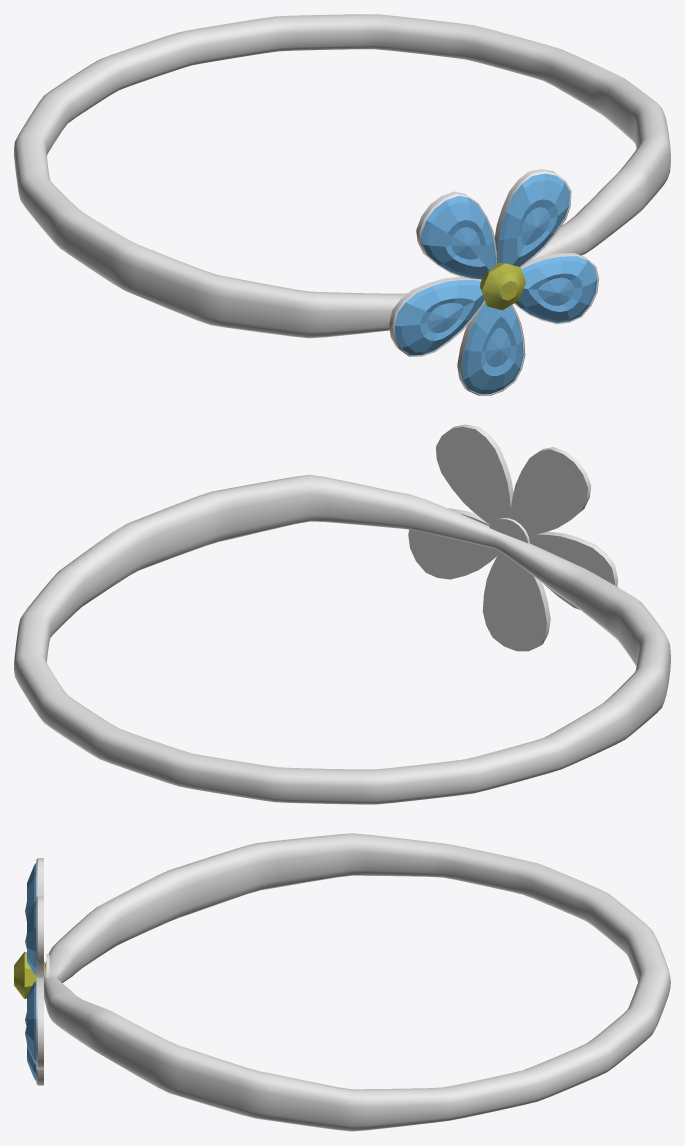
File: yubiwa_hana.fbx
The picture shows the model from 3 angles, top to bottom: view 1: azimuth 30°, elevation 25°; view 2: azimuth 150°, elevation 25°; view 3: azimuth 270°, elevation 25°; orthographic projection. The views are drawn at different scales.
Parts seen in each view (by area): view 1: pPipe3, pCylinder15; view 2: pPipe3, pCylinder15; view 3: pPipe3, pCylinder15.
Part boxes in pixels (<box>): pPipe3: <box>14,14,670,338</box>; pCylinder15: <box>389,169,599,395</box>; pPipe3: <box>14,474,670,804</box>; pCylinder15: <box>408,424,618,651</box>; pPipe3: <box>44,833,670,1131</box>; pCylinder15: <box>14,858,49,1085</box>.
Bounding box in the file's own units: 11.15 × 3.95 × 11.49.
